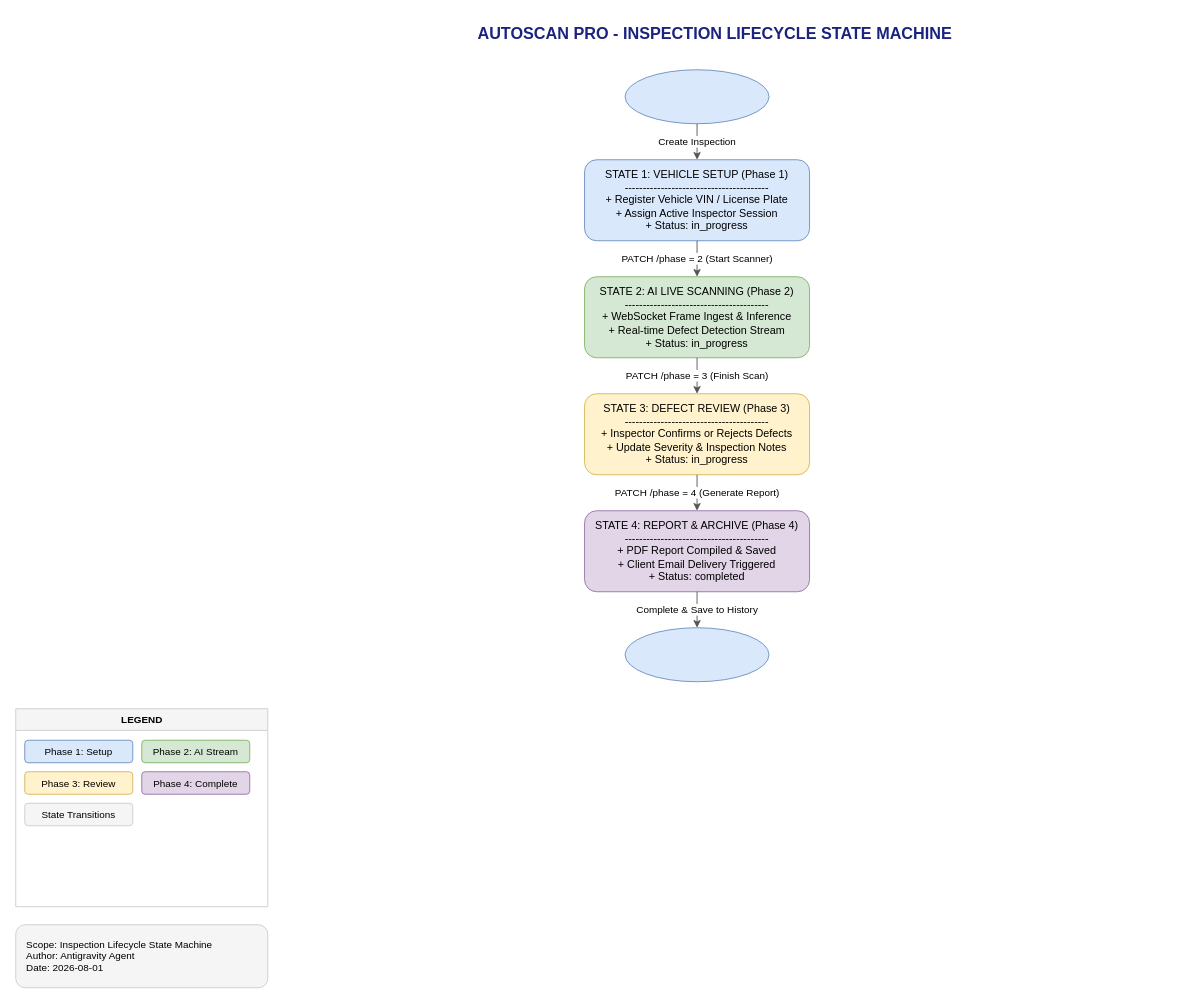
The diagram is 1181 pixels wide and 1004 high, and some of its shapes have lost their labels. The centre of each missing label's shape, as x and y in pixels:
"Inspection Archived" goes at (696,654).
"Inspection Initiated" goes at (696,96).
